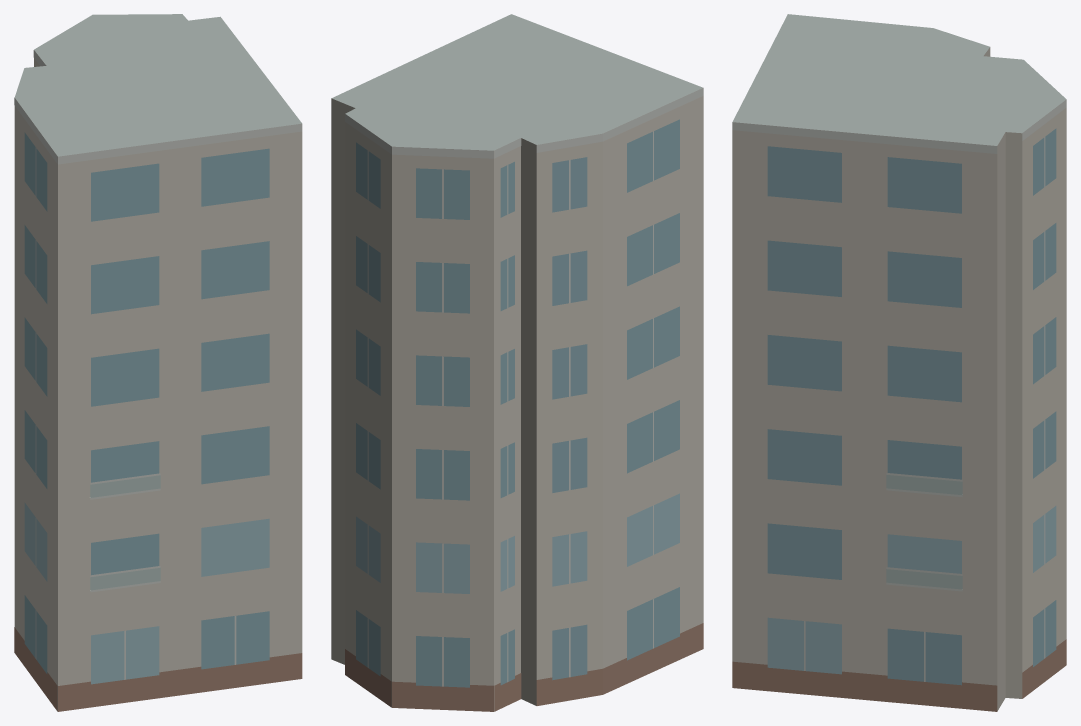
The model's file is survey-upis-33030158.glb.
3 views of the same model, side by side, from view 1: azimuth 30°, elevation 25°; view 2: azimuth 150°, elevation 25°; view 3: azimuth 270°, elevation 25° (orthographic).
Visible parts, largest first — view 1: survey-upis-33030158.tmp; view 2: survey-upis-33030158.tmp; view 3: survey-upis-33030158.tmp.
Part boxes in pixels (x1,y1,x2,y2): survey-upis-33030158.tmp: (14,14,302,711); survey-upis-33030158.tmp: (331,14,703,711); survey-upis-33030158.tmp: (732,14,1066,711).
Size of the model in its own units: 8.59 by 17.15 by 9.19.
